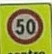limite 50: (6, 7, 43, 44)
